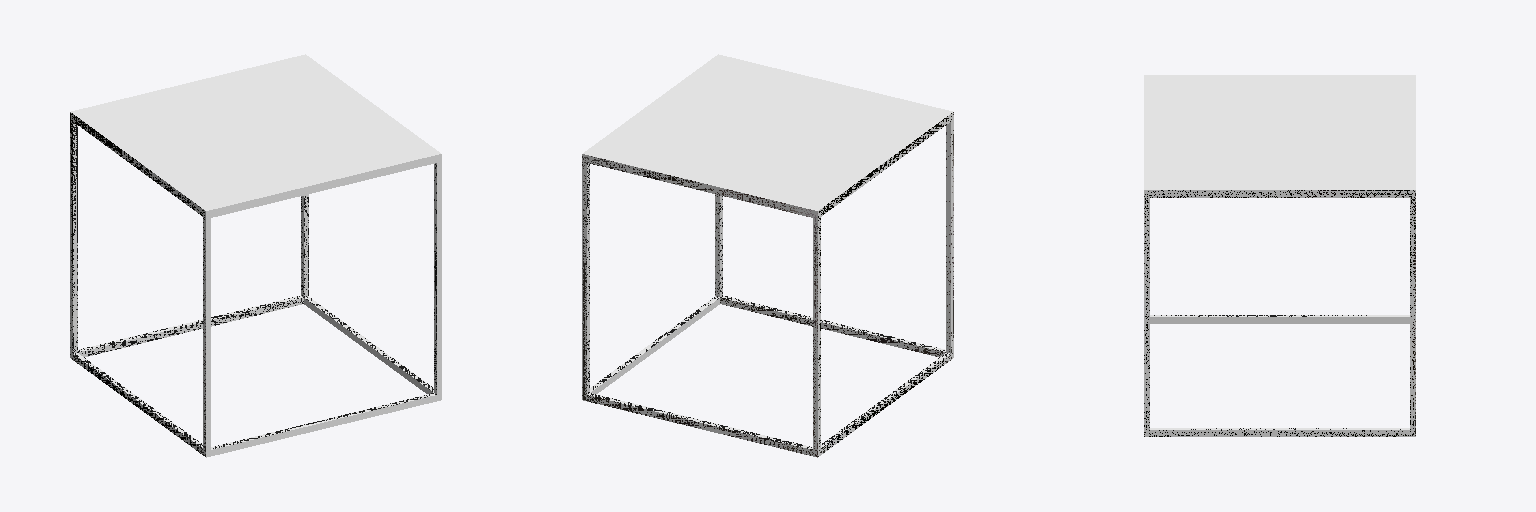
3 views of the same model, side by side, from view 1: azimuth 30°, elevation 25°; view 2: azimuth 150°, elevation 25°; view 3: azimuth 270°, elevation 25° (orthographic).
Parts seen in each view (by area): view 1: mesh1_mesh1-geometry; view 2: mesh1_mesh1-geometry; view 3: mesh1_mesh1-geometry.
Part boxes in pixels (left/top/right/bottom): mesh1_mesh1-geometry: left=70, top=54, right=441, bottom=457; mesh1_mesh1-geometry: left=582, top=54, right=953, bottom=457; mesh1_mesh1-geometry: left=1144, top=75, right=1415, bottom=436.
Size of the model in its own units: 0.5774 by 0.5774 by 0.5774.
10 materials, 3 textured.